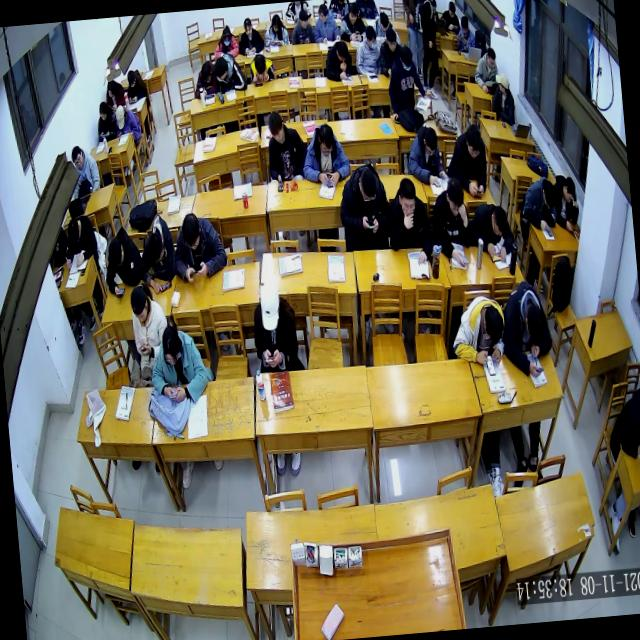bow: (134, 210, 179, 298), (466, 197, 517, 264), (100, 223, 144, 299), (516, 172, 560, 236), (210, 50, 248, 94), (190, 56, 220, 99), (209, 24, 239, 62), (248, 48, 276, 86)
down: (256, 280, 282, 333), (522, 301, 548, 347), (158, 321, 182, 369), (442, 173, 466, 220), (481, 303, 506, 347), (395, 175, 418, 221), (178, 210, 202, 252), (127, 284, 150, 326), (462, 122, 484, 162), (356, 167, 378, 204), (144, 230, 166, 266), (316, 120, 336, 158), (266, 108, 286, 146), (488, 202, 509, 238), (105, 236, 126, 270), (421, 124, 438, 160), (540, 178, 558, 212), (397, 43, 415, 75), (560, 174, 578, 205), (66, 216, 84, 246), (212, 54, 230, 82), (332, 37, 350, 64), (70, 142, 86, 172), (384, 25, 399, 55), (199, 58, 214, 86), (252, 52, 268, 77), (114, 103, 128, 130), (345, 0, 359, 26), (484, 46, 498, 71), (98, 98, 110, 122), (378, 9, 390, 33), (297, 8, 310, 30), (126, 68, 138, 90), (270, 11, 282, 33), (220, 25, 232, 46), (242, 15, 254, 36), (459, 14, 470, 36), (105, 80, 116, 100), (446, 0, 457, 19)
sit: (144, 313, 210, 408), (496, 278, 556, 382), (336, 160, 393, 254), (248, 276, 301, 374), (382, 172, 434, 268), (168, 206, 230, 286), (447, 293, 508, 371), (128, 278, 172, 386), (426, 173, 474, 269), (298, 118, 353, 192), (442, 120, 492, 200), (384, 42, 428, 126), (262, 106, 308, 185), (404, 121, 448, 189), (603, 386, 640, 462), (60, 211, 100, 271), (550, 170, 582, 236), (68, 140, 101, 198), (488, 70, 518, 128), (351, 23, 383, 77), (376, 26, 406, 80), (321, 34, 354, 82), (472, 44, 502, 94), (310, 0, 340, 45), (234, 14, 266, 56), (337, 0, 367, 44), (112, 100, 142, 143), (288, 7, 316, 46), (95, 98, 118, 144), (262, 12, 289, 50), (123, 67, 148, 104), (454, 12, 476, 54), (436, 0, 461, 35), (103, 74, 125, 110), (372, 9, 394, 39)
